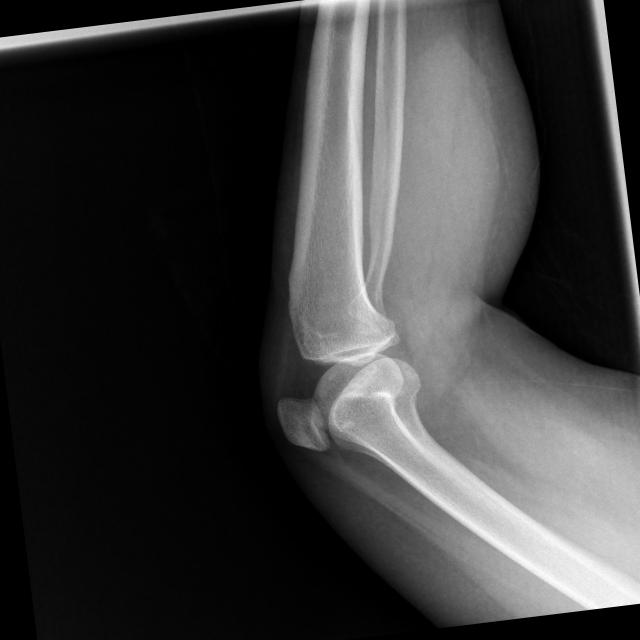Knee: (260, 265, 446, 460)
